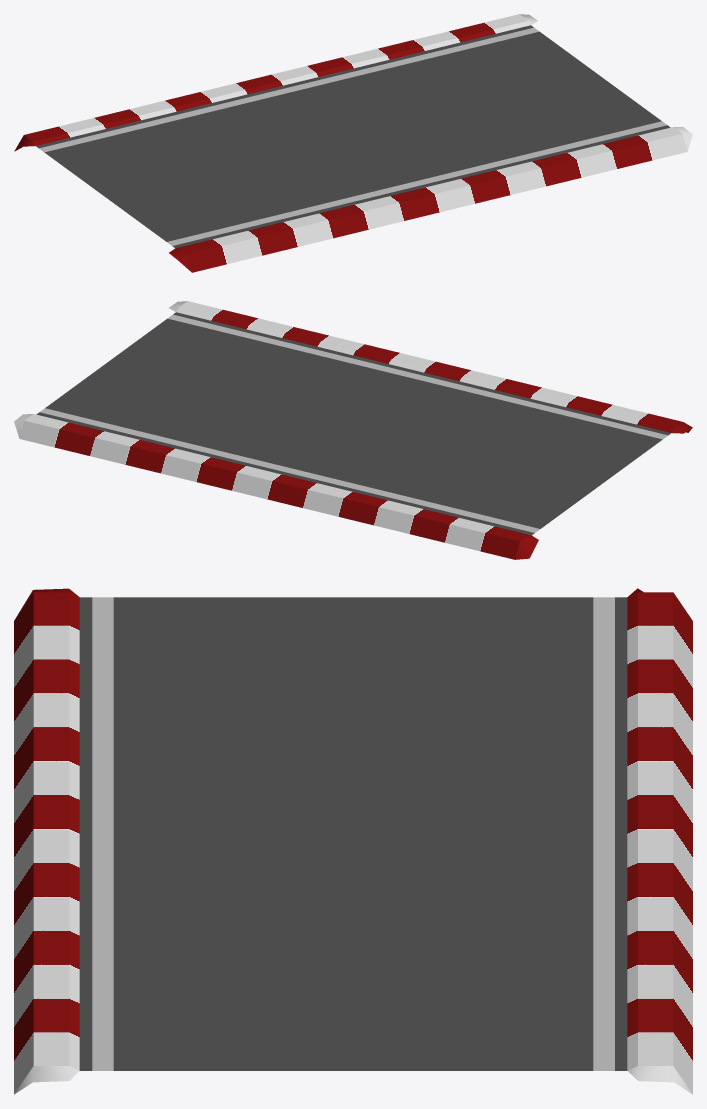
File: Track_Straight.FBX
3 renders of one model, top to bottom at view 1: azimuth 30°, elevation 25°; view 2: azimuth 150°, elevation 25°; view 3: azimuth 270°, elevation 25°, orthographic. The views are drawn at different scales.
Visible parts, largest first — view 1: Track_Straight, Track_Straight_Apex_Right, Track_Straight_Apex_Left; view 2: Track_Straight, Track_Straight_Apex_Left, Track_Straight_Apex_Right; view 3: Track_Straight, Track_Straight_Apex_Right, Track_Straight_Apex_Left.
Boxes of the visible parts, x1,y1,x2,y2 form: Track_Straight: (36,25,670,248); Track_Straight_Apex_Right: (169,127,692,272); Track_Straight_Apex_Left: (14,14,537,151); Track_Straight: (36,312,671,535); Track_Straight_Apex_Left: (14,414,538,559); Track_Straight_Apex_Right: (169,301,692,433); Track_Straight: (79,597,627,1070); Track_Straight_Apex_Right: (14,588,79,1094); Track_Straight_Apex_Left: (627,588,692,1094).
Size of the model in its own units: 1769 by 48.13 by 1030.
Materials: 1 (1 with a texture image).
